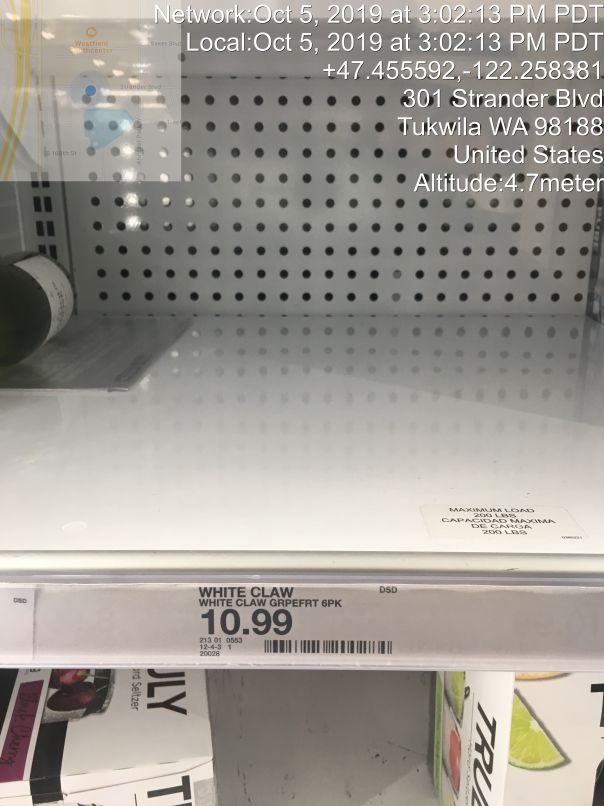Label: (183, 576, 417, 665)
Location: (398, 83, 604, 171)
Time: (148, 3, 604, 55)
Void: (42, 91, 558, 491)
